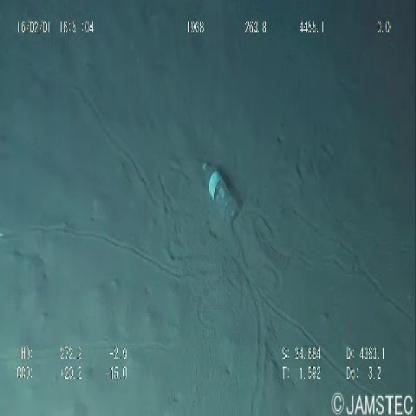Rác: (197, 155, 248, 238)
